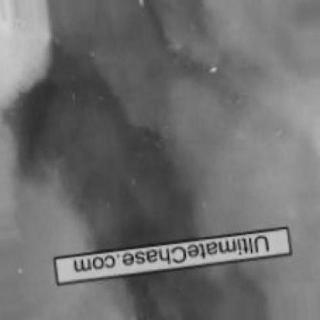Smoke: (10, 12, 306, 226)
